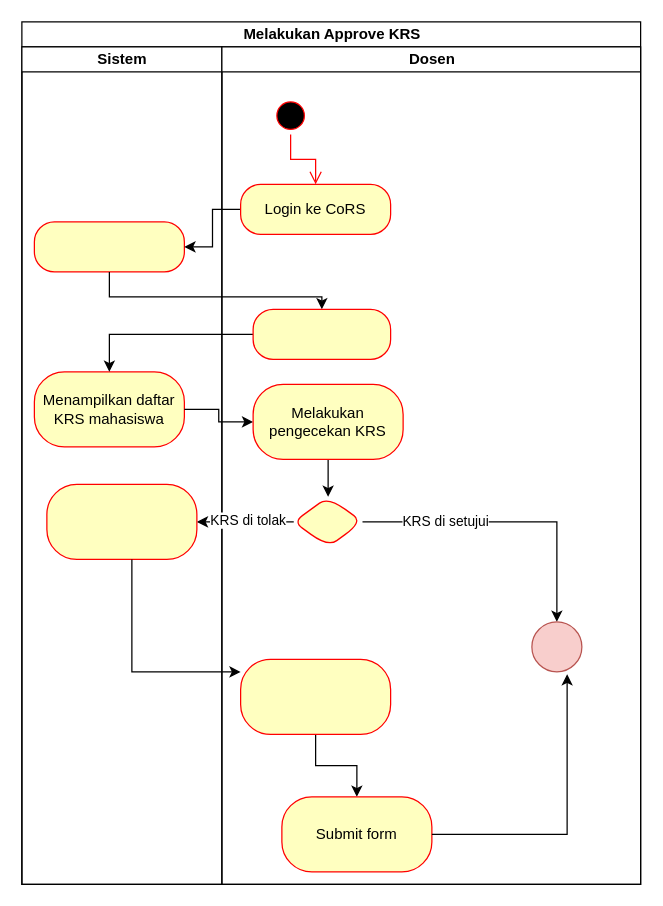
The diagram is 663 pixels wide and 906 high, and some of its shapes have lost their labels. The shapes that lost their labels are listed below. From the top down, each one's centre as x and y in pixels, then its label:
(108,246): Menampilkan Dashboard
(321,333): Memilih Menu KRS
(121,521): Mengirim form penolakan dan notifikasi kepada mahasiswa
(315,696): Mengisi form penolakan
